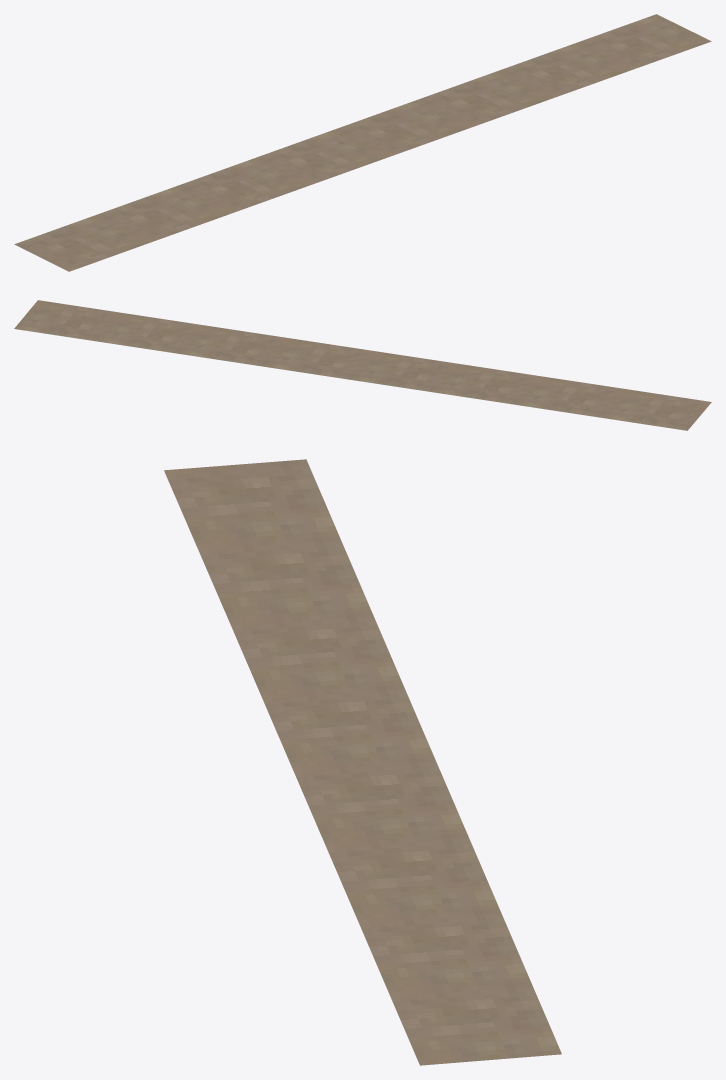
The model's file is fort_pier_kings_footprint.fbx.
3 renders of one model, top to bottom at view 1: azimuth 30°, elevation 25°; view 2: azimuth 150°, elevation 25°; view 3: azimuth 270°, elevation 25°, orthographic. The views are drawn at different scales.
Visible parts, largest first — view 1: footprint; view 2: footprint; view 3: footprint.
Boxes of the visible parts, bbox=[...] form: footprint: bbox=[14, 14, 711, 271]; footprint: bbox=[14, 300, 711, 430]; footprint: bbox=[164, 459, 561, 1065].
Size of the model in its own units: 27150 by 0.00123 by 7537.
Materials: 1 (1 with a texture image).
